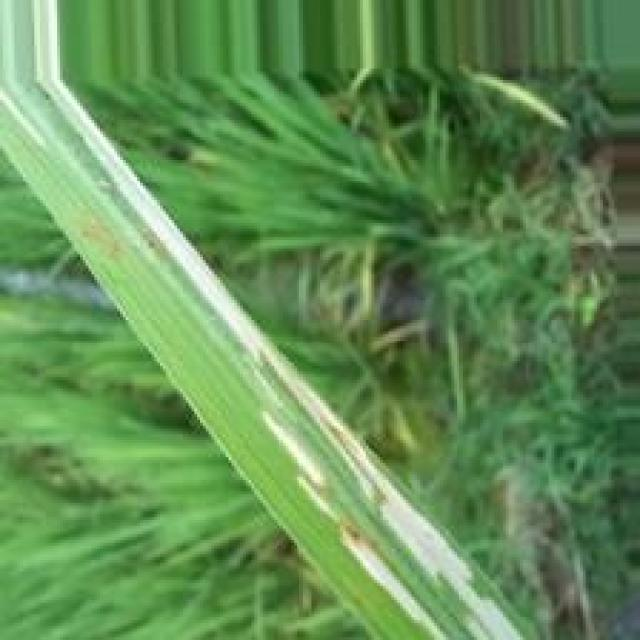Rice_Hispa: (33, 1, 524, 640), (258, 413, 434, 640)
